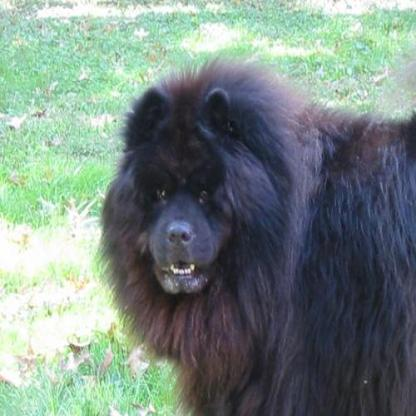chow: (100, 47, 413, 412)
